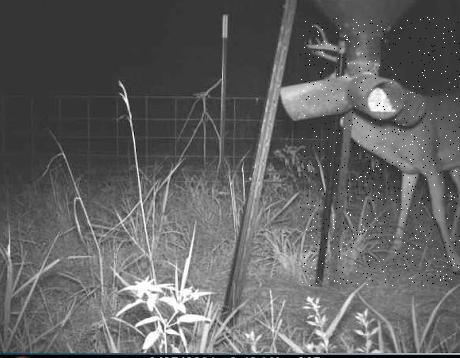Deer: (300, 17, 460, 286)
